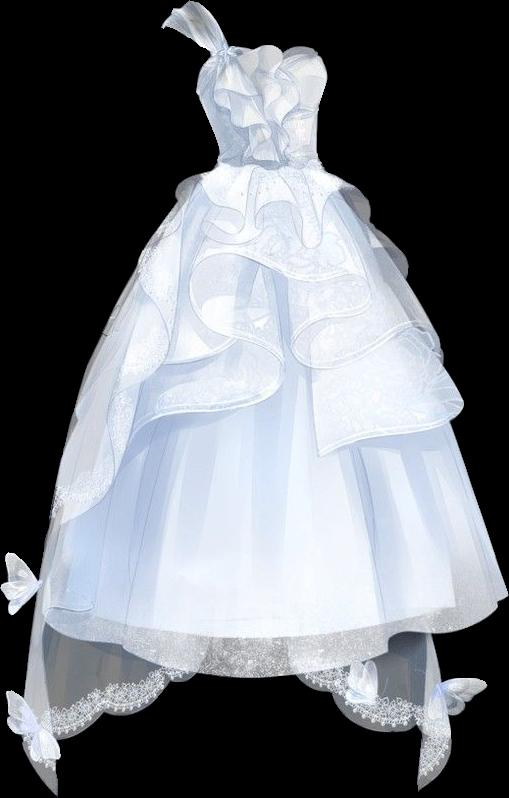Bodice: (161, 1, 327, 173)
Hemline: (46, 254, 462, 537), (31, 589, 507, 641), (155, 179, 378, 251)
Neckline: (192, 0, 307, 60)
Skirt: (1, 166, 507, 796)
Waistline: (215, 160, 323, 179)
